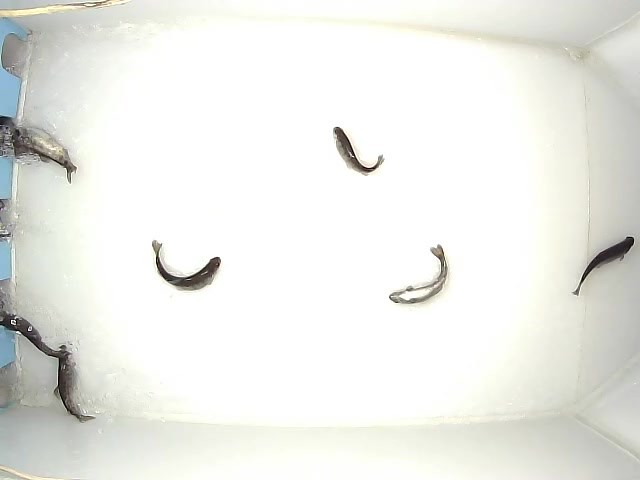fish: (570, 235, 636, 297), (11, 125, 79, 185), (387, 242, 449, 306), (151, 239, 222, 292), (1, 308, 72, 360), (54, 344, 97, 424), (332, 126, 385, 177)
